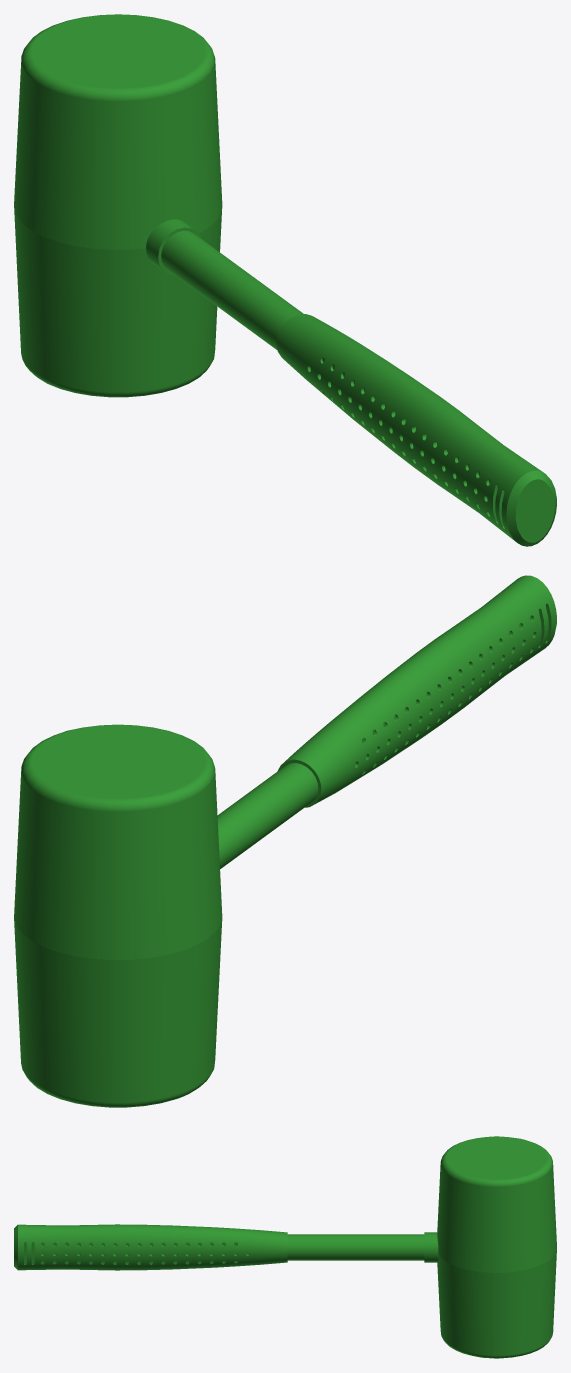
File: xiangjiaocui.FBX
3 views of the same model, one above another, from view 1: azimuth 30°, elevation 25°; view 2: azimuth 150°, elevation 25°; view 3: azimuth 270°, elevation 25° (orthographic). The views are drawn at different scales.
Visible parts, largest first — view 1: 005.9\009, 005.9\.3, 005.9\.2; view 2: 005.9\009, 005.9\.3, 005.9\.2; view 3: 005.9\009, 005.9\.3, 005.9\.2.
Part boxes in pixels (x1,y1,x2,y2): 005.9\009: (14,14,222,397); 005.9\.3: (276,314,556,546); 005.9\.2: (161,230,303,349); 005.9\009: (14,724,222,1107); 005.9\.3: (277,575,556,807); 005.9\.2: (217,763,318,869); 005.9\009: (424,1136,556,1358); 005.9\.3: (14,1224,287,1270); 005.9\.2: (287,1234,424,1260).
Bounding box in the file's own units: 6 × 9.8 × 26.99.
